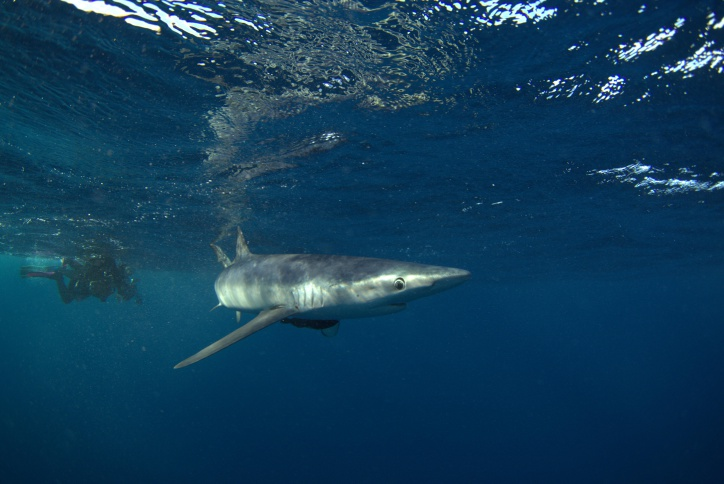Azul: (173, 218, 477, 402)
